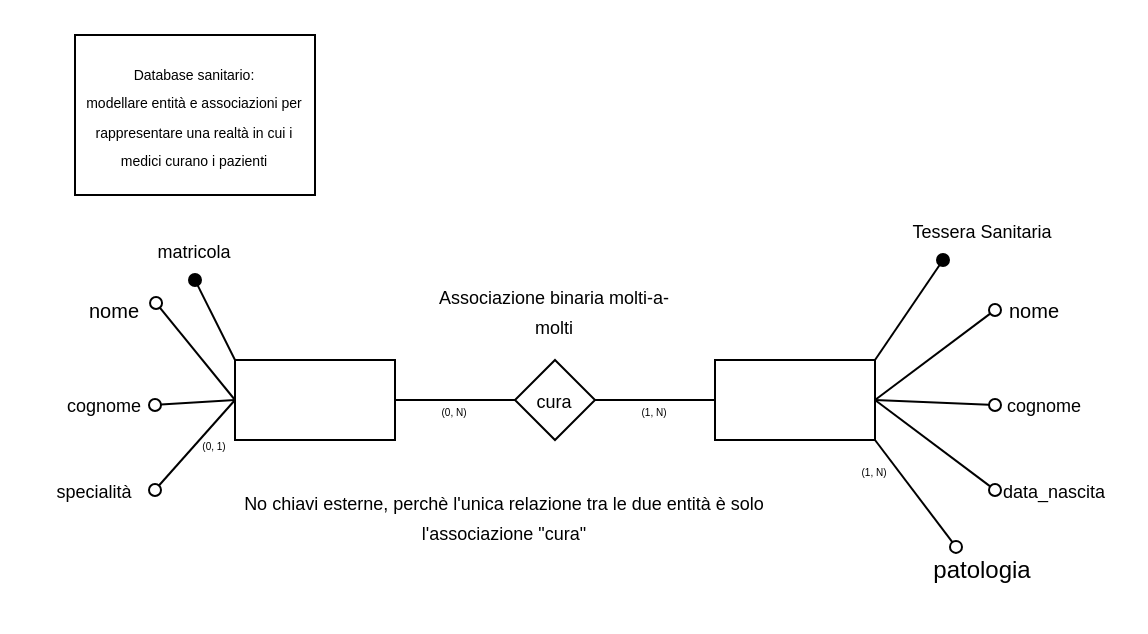
This 1148x634 diagram has some shape labels left out. Here are the shapes that lost their labels. From the top down, the centre of each, then its label:
At [314,399]: "Medico".
At [794,399]: "paziente".
